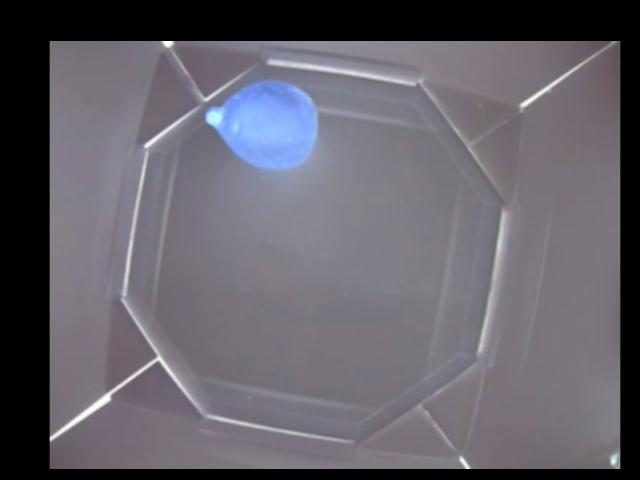Potato: (206, 80, 317, 170)
